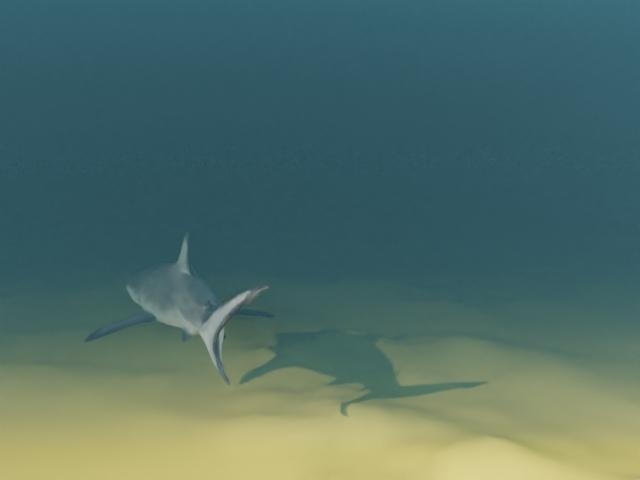Carribean Shark.001: (84, 232, 275, 385)
